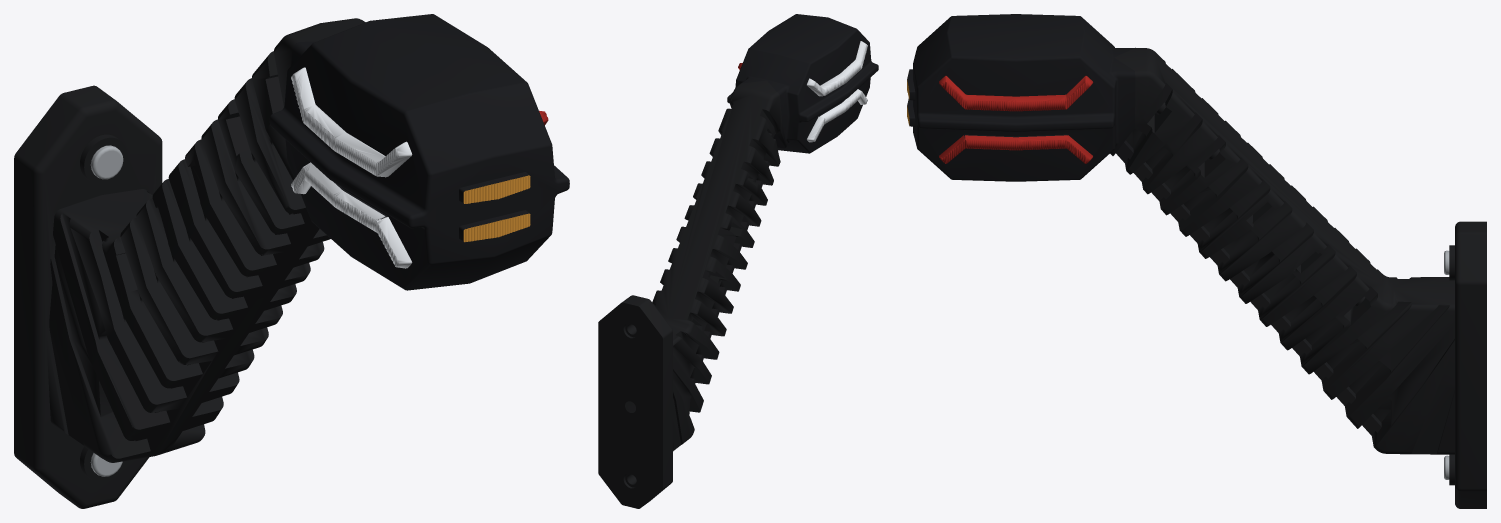
The model's file is lamp-ld2994.glb.
The picture shows the model from 3 angles, left to right: view 1: azimuth 30°, elevation 25°; view 2: azimuth 150°, elevation 25°; view 3: azimuth 270°, elevation 25°; orthographic projection. The views are drawn at different scales.
Visible parts, largest first — view 1: BODY, EMIT.outline; view 2: BODY, EMIT.outline; view 3: BODY, EMIT.outline.
Boxes of the visible parts, x1,y1,x2,y2 form: BODY: (14, 14, 569, 508); EMIT.outline: (291, 67, 548, 268); BODY: (598, 14, 878, 508); EMIT.outline: (738, 41, 867, 142); BODY: (907, 14, 1486, 508); EMIT.outline: (907, 76, 1093, 163).
Bounding box in the file's own units: 0.0501 × 0.1794 × 0.1999.
